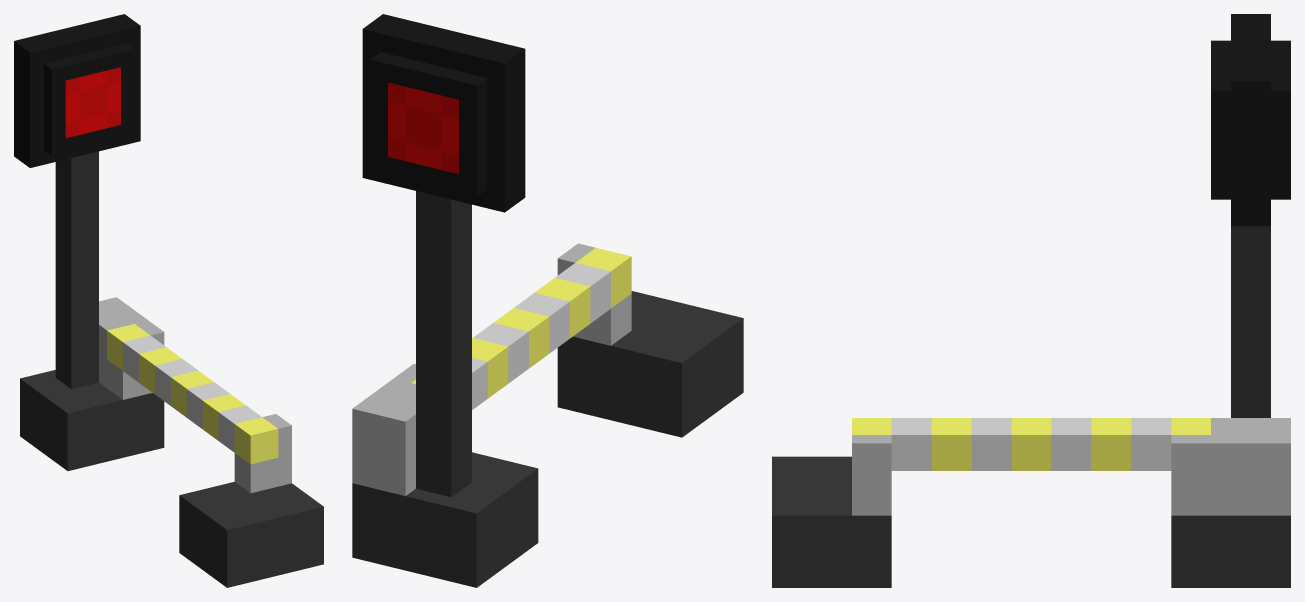
Rendered from ampel closed.obj.
The picture shows the model from 3 angles, left to right: view 1: azimuth 30°, elevation 25°; view 2: azimuth 150°, elevation 25°; view 3: azimuth 270°, elevation 25°; orthographic projection. The views are drawn at different scales.
Size of the model in its own units: 0.8 by 2.8 by 2.6.
1 material, 1 textured.
